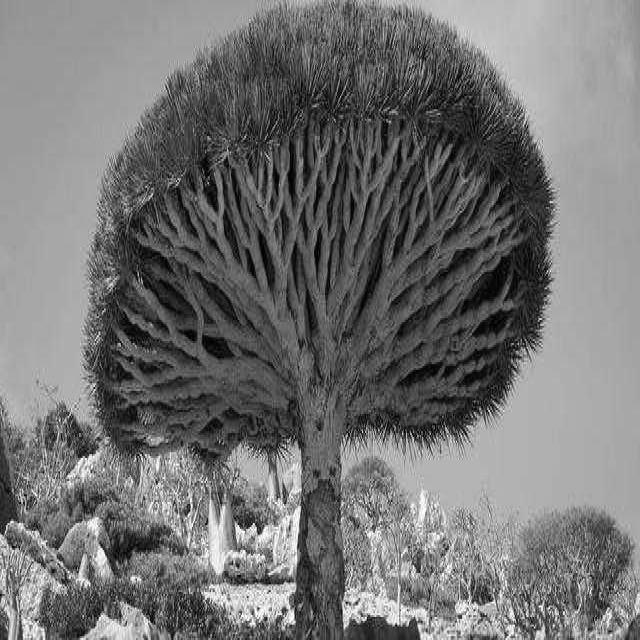Tree: (85, 5, 553, 637)
